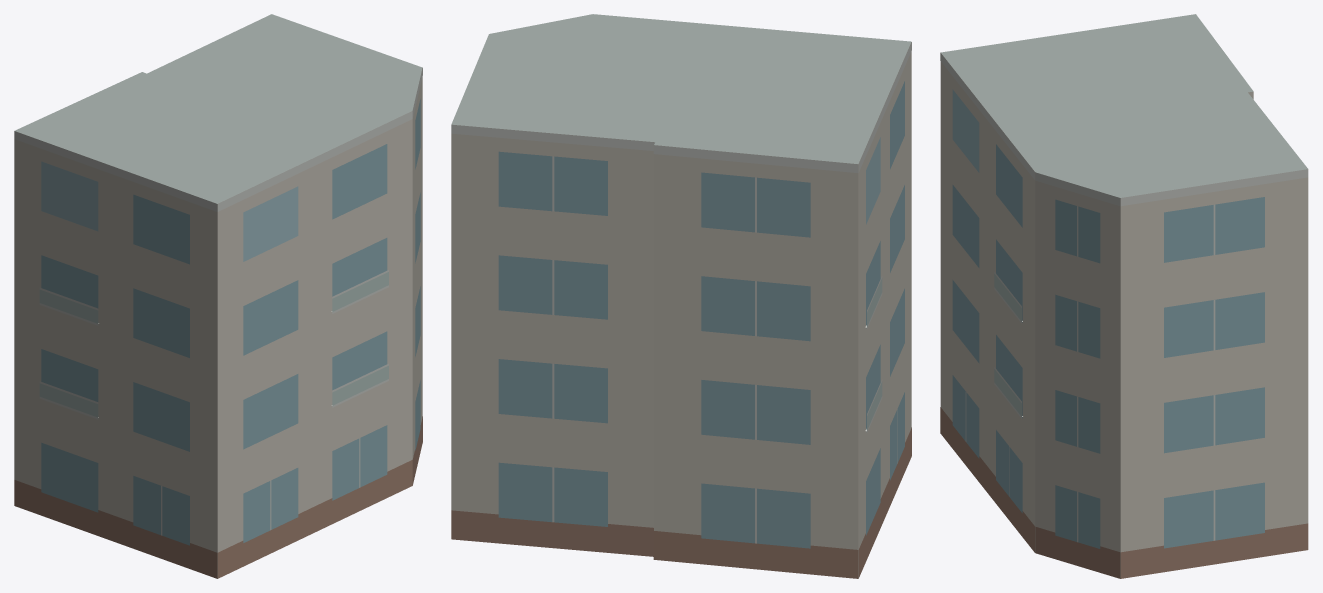
File: survey-upis-32737985.glb
The picture shows the model from 3 angles, left to right: view 1: azimuth 30°, elevation 25°; view 2: azimuth 150°, elevation 25°; view 3: azimuth 270°, elevation 25°; orthographic projection. The views are drawn at different scales.
Visible parts, largest first — view 1: survey-upis-32737985.tmp; view 2: survey-upis-32737985.tmp; view 3: survey-upis-32737985.tmp.
Boxes of the visible parts, x1,y1,x2,y2 form: survey-upis-32737985.tmp: (14, 14, 422, 578); survey-upis-32737985.tmp: (451, 14, 911, 578); survey-upis-32737985.tmp: (940, 14, 1308, 578).
Bounding box in the file's own units: 11.62 × 11.2 × 9.81.
